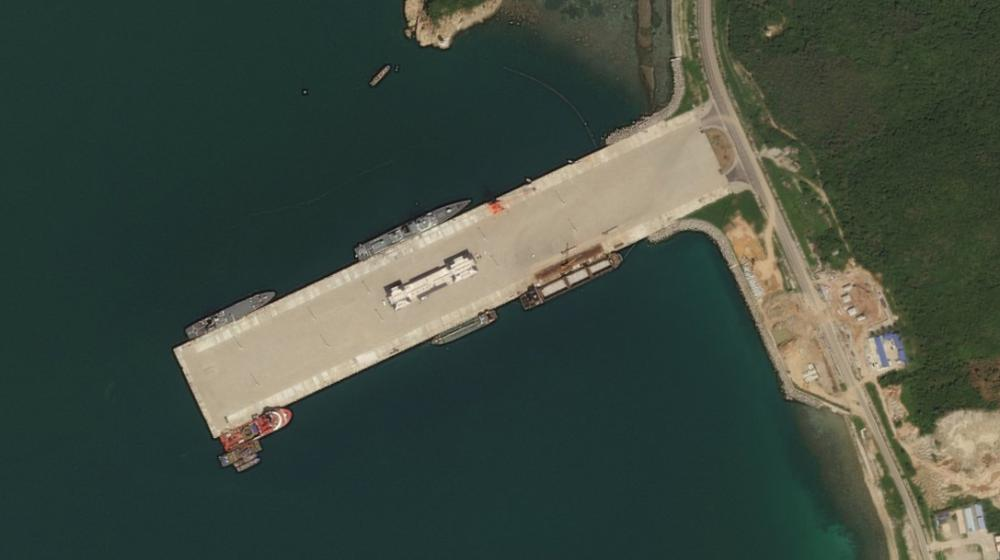destroyer: (352, 193, 477, 264)
